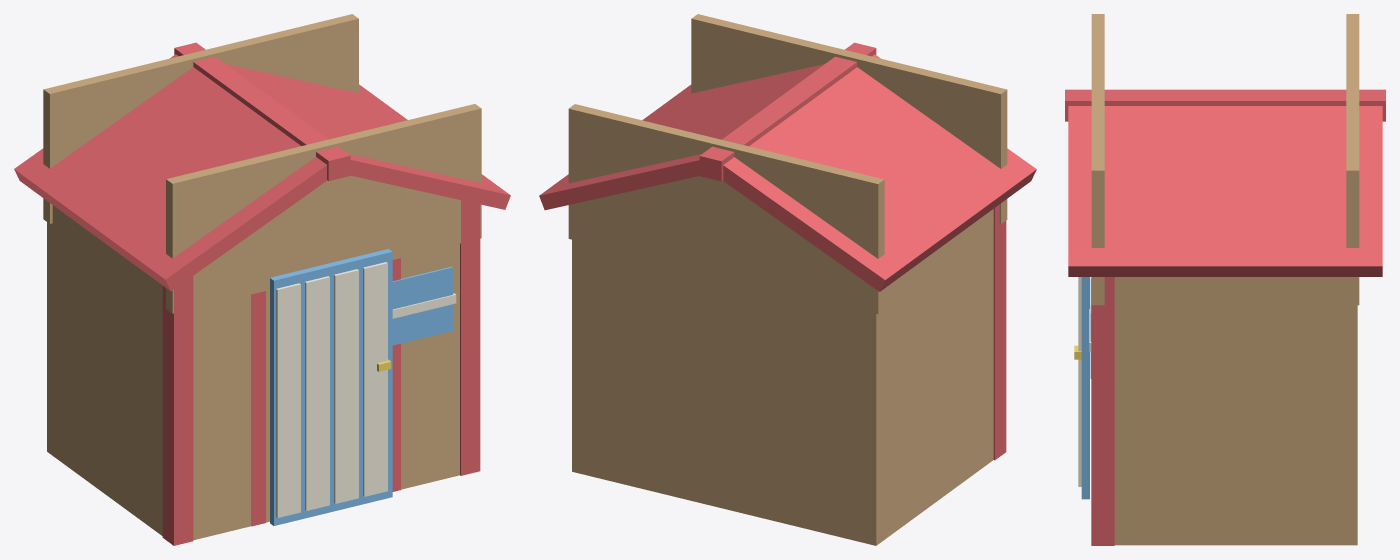
Rendered from lawn-mowing-simulator-kit-garden-shed-1eba9f44__27394.glb.
3 views of the same model, side by side, from view 1: azimuth 30°, elevation 25°; view 2: azimuth 150°, elevation 25°; view 3: azimuth 270°, elevation 25° (orthographic). The views are drawn at different scales.
Parts seen in each view (by area): view 1: garden-shed, door/cream, door/blue; view 2: garden-shed; view 3: garden-shed, door/blue, door/cream.
Part boxes in pixels (bbox=[...]): garden-shed: bbox=[14, 14, 510, 545]; door/cream: bbox=[276, 262, 387, 517]; door/blue: bbox=[270, 249, 392, 525]; garden-shed: bbox=[539, 14, 1036, 545]; garden-shed: bbox=[1065, 14, 1385, 545]; door/blue: bbox=[1081, 277, 1089, 499]; door/cream: bbox=[1078, 277, 1081, 486].
Size of the model in its own units: 2.5 by 2.51 by 1.94.
